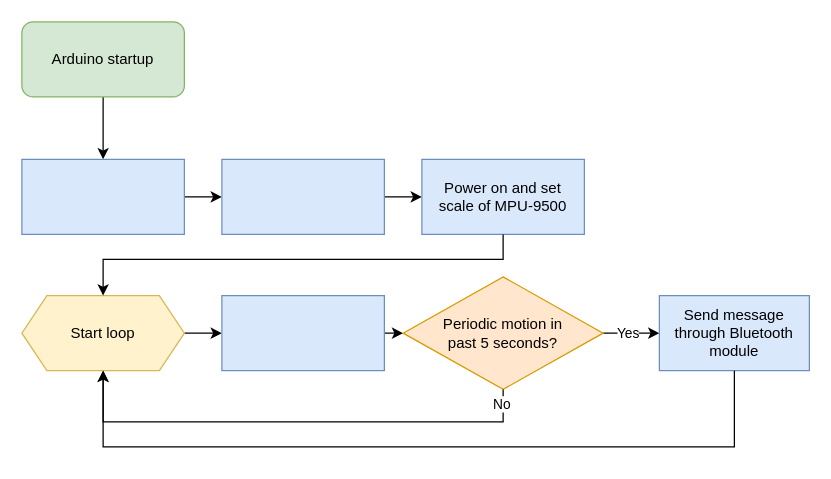
Image size: 831x479. Some labels were removed from this diagram. The centre of each missing label's shape, as x and y in pixels:
"Initialize Bluetooth module" goes at [102,196].
"Initialize I2C" goes at [302,196].
"Store magnitude from each accelerometer in buffer" goes at [302,332].
